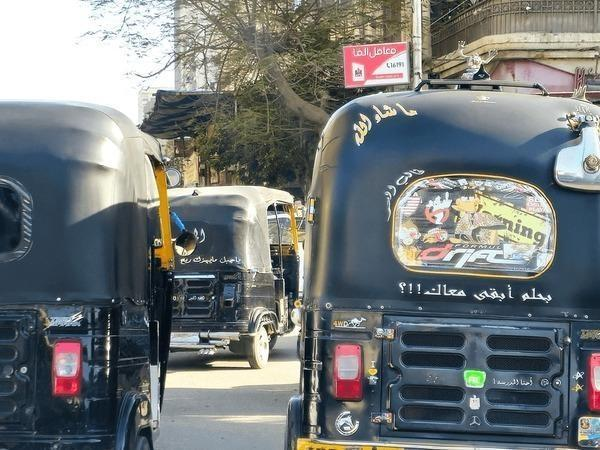keke: (137, 170, 300, 374)
